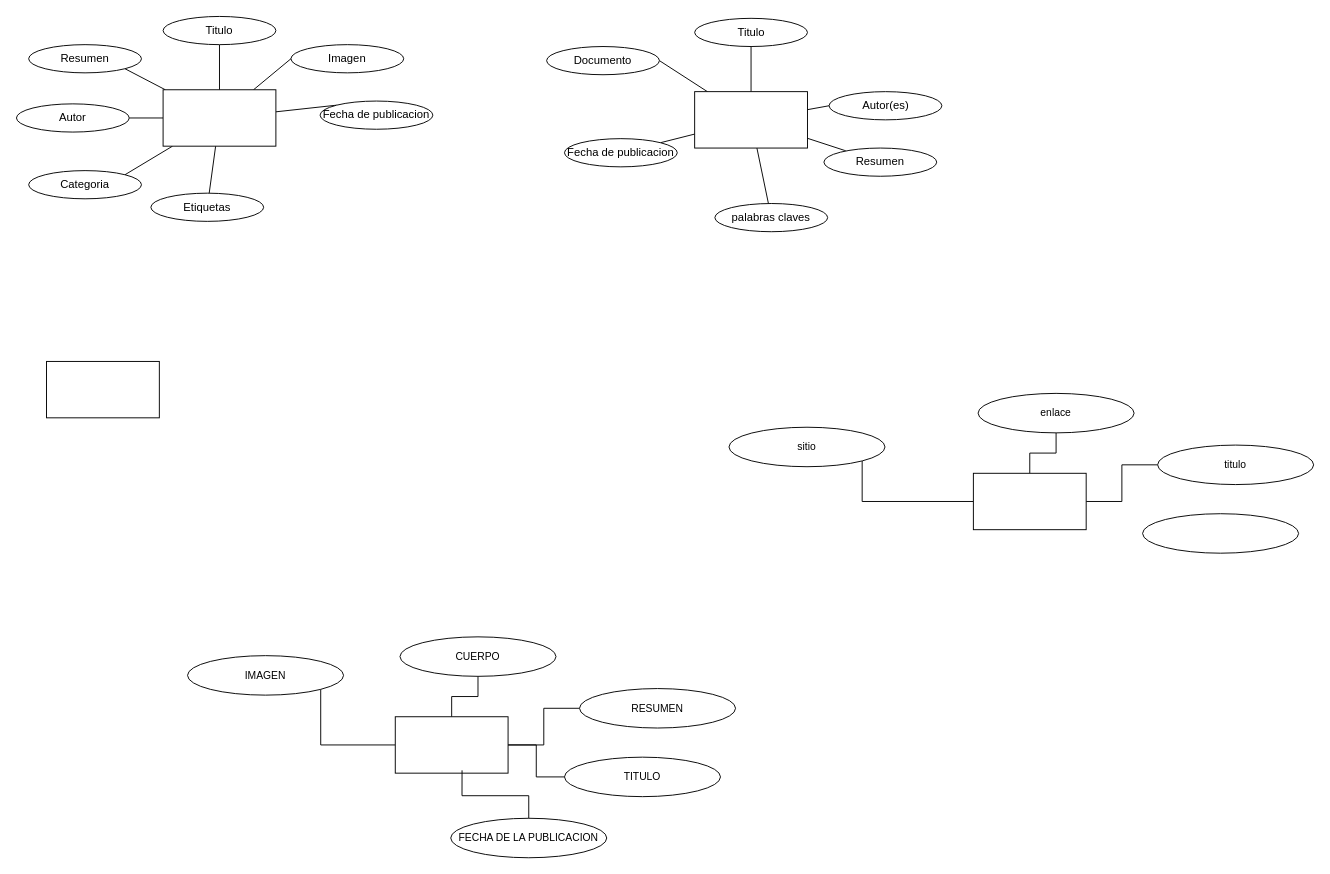
This 1330x874 diagram has some shape labels left out. The box of each missing label's shape, as (x1, y1, x2, y2) in pixels:
ARCHIVOS: (694, 91, 807, 148)
ARTICULOS: (162, 89, 276, 146)
BASE DE DATOS: (972, 472, 1086, 530)
nombre: (1142, 513, 1299, 553)
NOTICIA: (394, 716, 508, 773)
USUARIOS: (46, 360, 159, 418)
